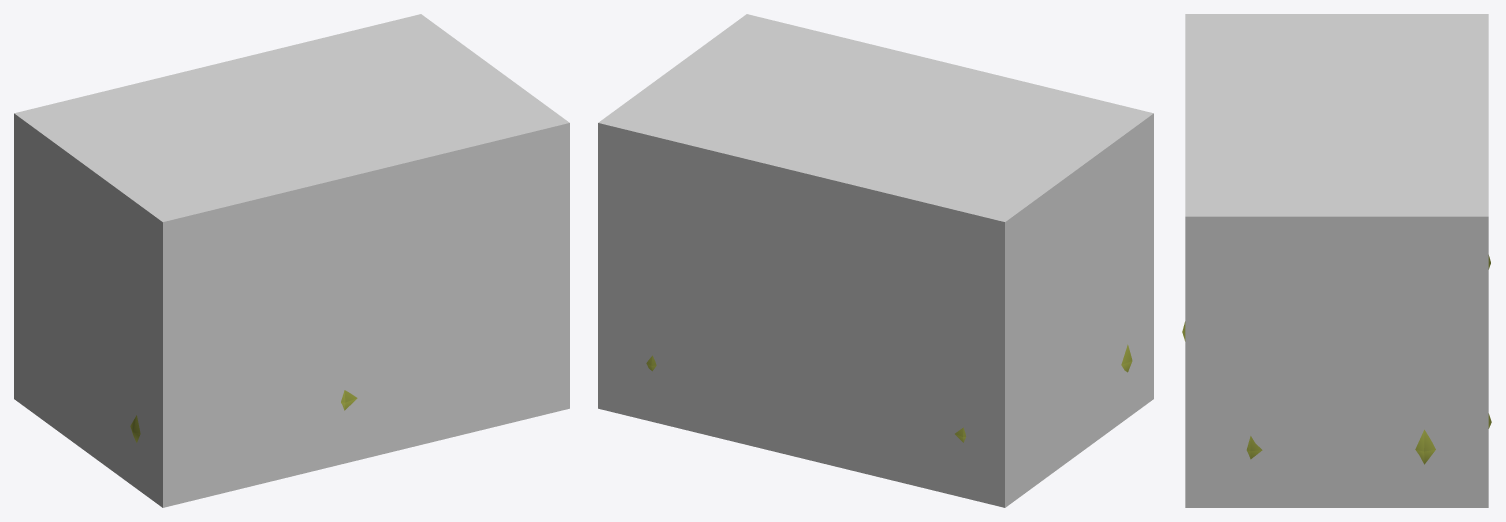
File: FMS_Crate_Fill_Pear.fbx
3 renders of one model, left to right at view 1: azimuth 30°, elevation 25°; view 2: azimuth 150°, elevation 25°; view 3: azimuth 270°, elevation 25°, orthographic.
Visible parts, largest first — view 1: Crate_Fill_Pear_Col; view 2: Crate_Fill_Pear_Col; view 3: Crate_Fill_Pear_Col, Crate_Fill_Pear_LOD0.
Boxes of the visible parts, left/top/right/bottom form: Crate_Fill_Pear_Col: left=14, top=14, right=569, bottom=507; Crate_Fill_Pear_Col: left=598, top=14, right=1153, bottom=507; Crate_Fill_Pear_Col: left=1185, top=14, right=1488, bottom=507; Crate_Fill_Pear_LOD0: left=1182, top=255, right=1491, bottom=464.
Size of what is drawn, in the model's own units: 39.99 by 26.29 by 25.31.
